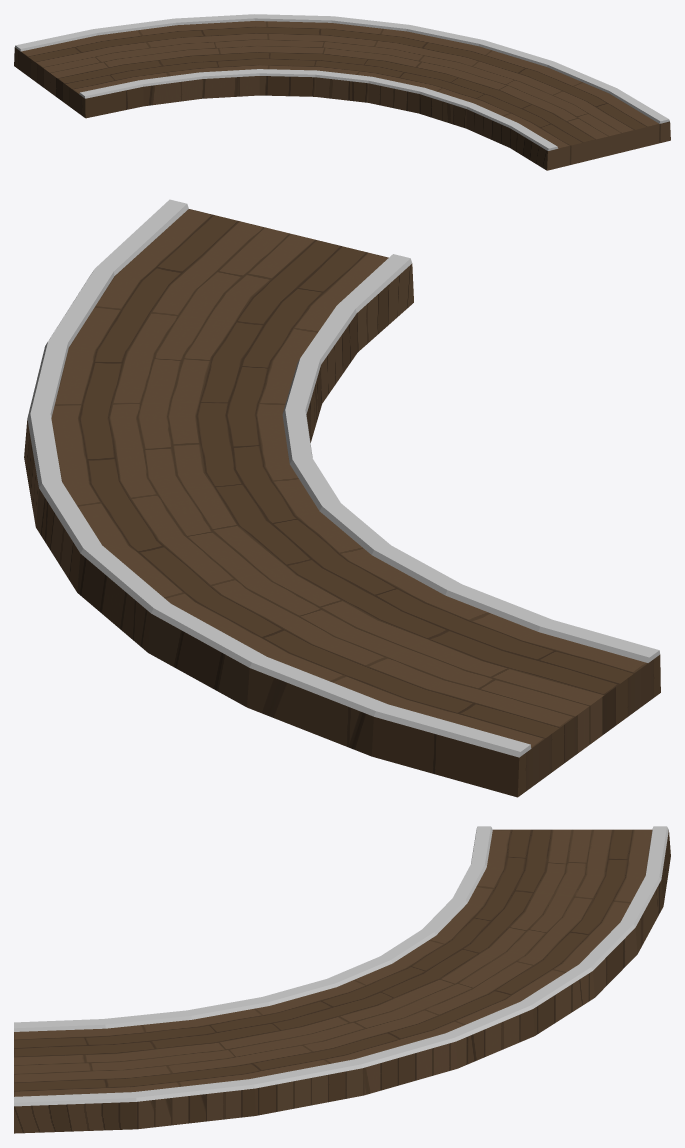
Rendered from SM_Env_Path_Corner_02.fbx.
3 views of the same model, one above another, from view 1: azimuth 30°, elevation 25°; view 2: azimuth 150°, elevation 25°; view 3: azimuth 270°, elevation 25° (orthographic). The views are drawn at different scales.
Parts seen in each view (by area): view 1: SM_Env_Path_Corner_02; view 2: SM_Env_Path_Corner_02; view 3: SM_Env_Path_Corner_02.
Part boxes in pixels (bbox=[...]): SM_Env_Path_Corner_02: bbox=[14, 14, 670, 170]; SM_Env_Path_Corner_02: bbox=[24, 199, 660, 797]; SM_Env_Path_Corner_02: bbox=[14, 826, 670, 1133].
Bounding box in the file's own units: 1028 × 51.31 × 1029.
